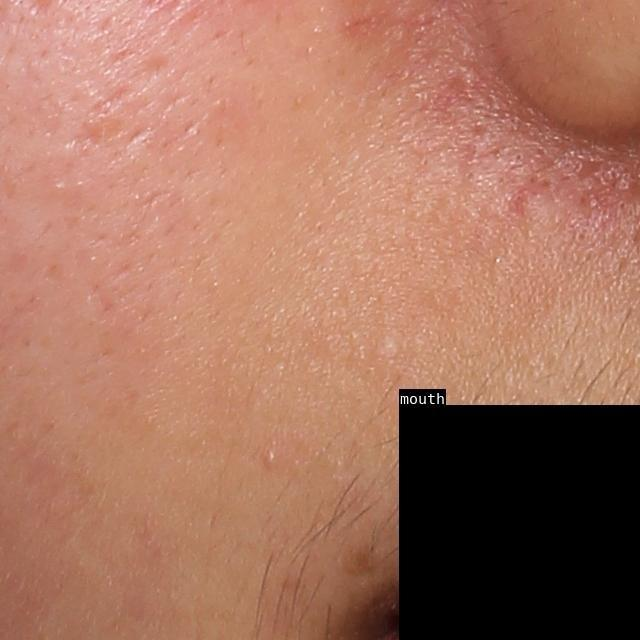comedo: (374, 333, 399, 360), (262, 450, 279, 468)
